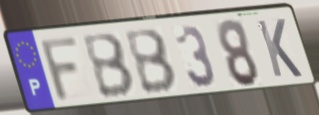3: (173, 23, 218, 91)
8: (217, 17, 260, 89)
B: (79, 31, 138, 101), (122, 27, 180, 97)
F: (38, 33, 83, 107)
K: (254, 17, 305, 80)
